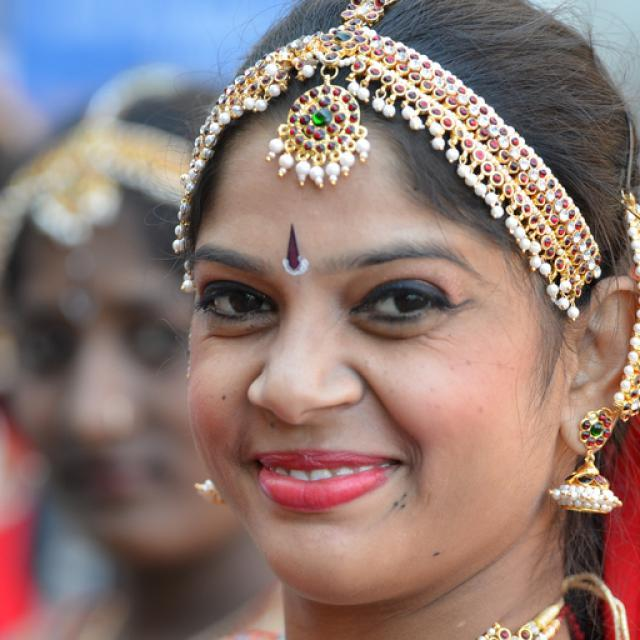happy: (189, 98, 556, 604)
